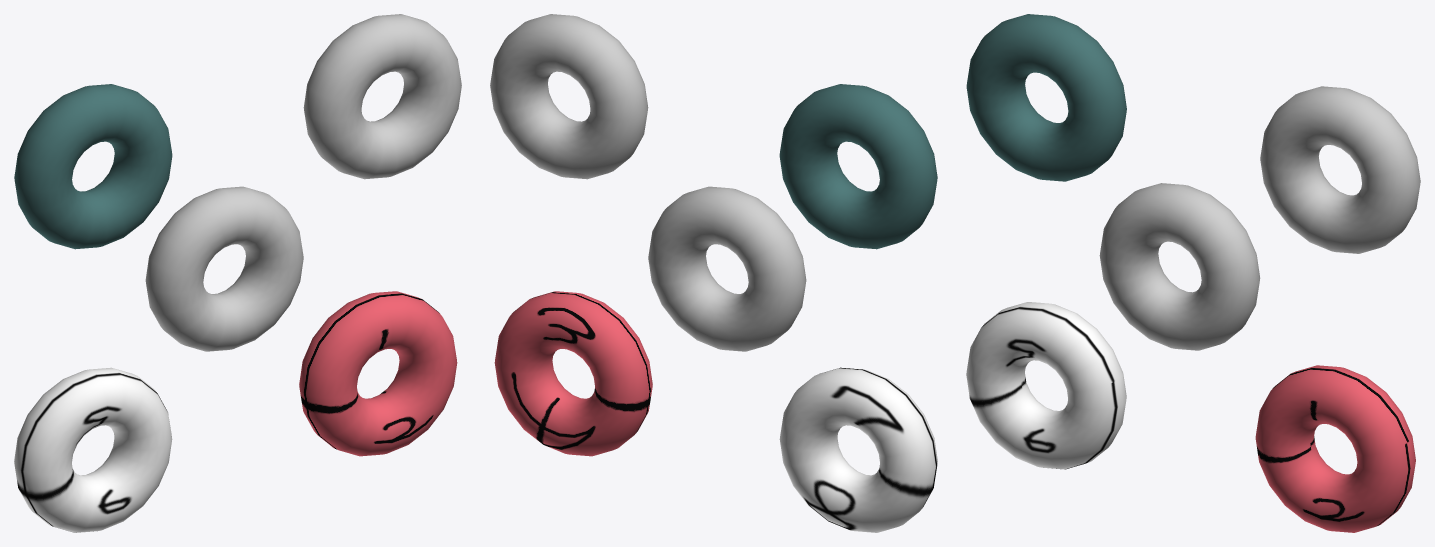
The model's file is Donut.fbx.
The picture shows the model from 3 angles, left to right: view 1: azimuth 30°, elevation 25°; view 2: azimuth 150°, elevation 25°; view 3: azimuth 330°, elevation 25°; orthographic projection.
Parts seen in each view (by area): view 1: pTorus6; view 2: pTorus6; view 3: pTorus6.
Part boxes in pixels (bbox=[...]): pTorus6: bbox=[14, 14, 461, 532]; pTorus6: bbox=[490, 14, 937, 532]; pTorus6: bbox=[966, 14, 1420, 532].
Bounding box in the file's own units: 8.77 × 8.4 × 1.
